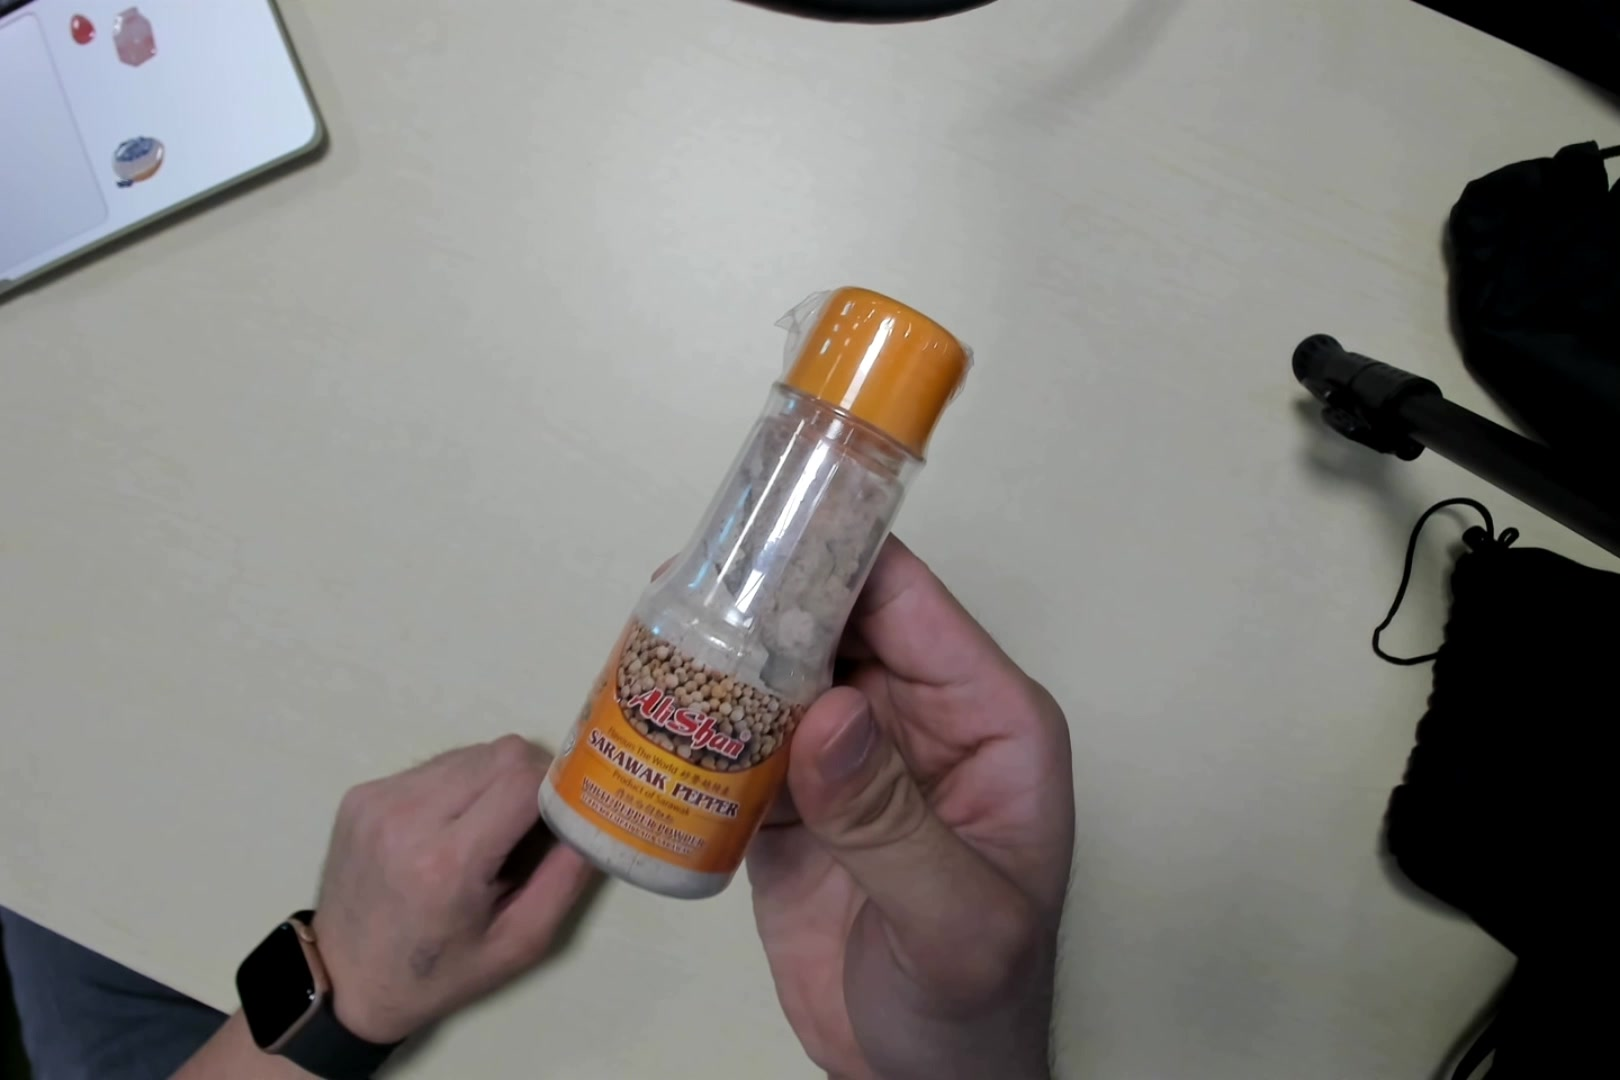HeabsSpicesPepper_0-99g_NonHalal_NonHealthy: (547, 284, 956, 900)
